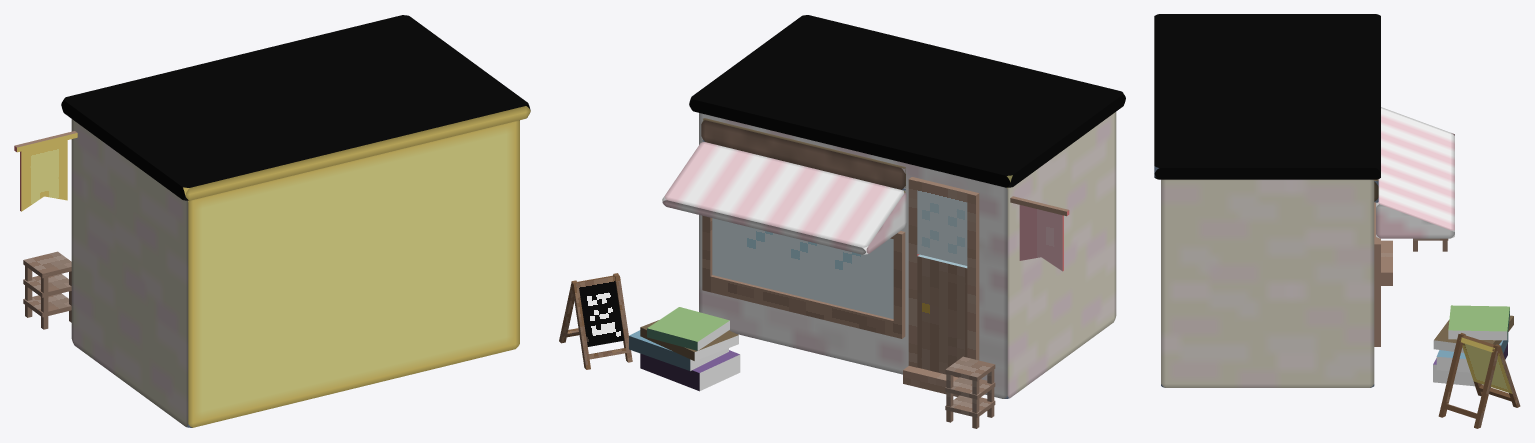
File: Bakery_Updated.fbx
The picture shows the model from 3 angles, left to right: view 1: azimuth 30°, elevation 25°; view 2: azimuth 150°, elevation 25°; view 3: azimuth 270°, elevation 25°; orthographic projection. The views are drawn at different scales.
Parts seen in each view (by area): view 1: base, cube_9, cube_14, cube_15, cube_3, cube_8; view 2: base, roofing, frame, door, bakery sign, cube_2, sign, cube_9, cube_7, cube_1, cube_4, cube (+7 smaller); view 3: base, roofing, cube_7, sign, frame, wood_1, wood, cube_5, cube_6, cube_4, step.
Part boxes in pixels (<box>): base: <box>61,15,530,427</box>; cube_9: <box>20,140,67,211</box>; cube_14: <box>23,251,71,278</box>; cube_15: <box>23,273,71,297</box>; cube_3: <box>23,293,71,317</box>; cube_8: <box>14,131,77,152</box>; base: <box>689,15,1125,398</box>; roofing: <box>662,142,906,254</box>; frame: <box>702,215,905,338</box>; door: <box>917,254,967,377</box>; bakery sign: <box>701,118,905,190</box>; cube_2: <box>913,178,976,265</box>; sign: <box>578,276,624,346</box>; cube_9: <box>1019,205,1063,271</box>; cube_7: <box>647,307,729,350</box>; cube_1: <box>967,191,979,360</box>; cube_4: <box>640,350,740,391</box>; cube: <box>908,177,919,367</box>; base: <box>1154,14,1380,387</box>; roofing: <box>1376,107,1454,238</box>; cube_7: <box>1448,305,1509,340</box>; sign: <box>1462,335,1512,393</box>; frame: <box>1374,202,1380,346</box>; wood_1: <box>1474,345,1499,428</box>; wood: <box>1438,334,1463,417</box>; cube_5: <box>1436,333,1508,372</box>; cube_6: <box>1433,315,1513,352</box>; cube_4: <box>1433,343,1507,387</box>; step: <box>1381,240,1392,285</box>.
Bounding box in the file's own units: 325 × 156 × 232.
Materials: 7 (7 with a texture image).
